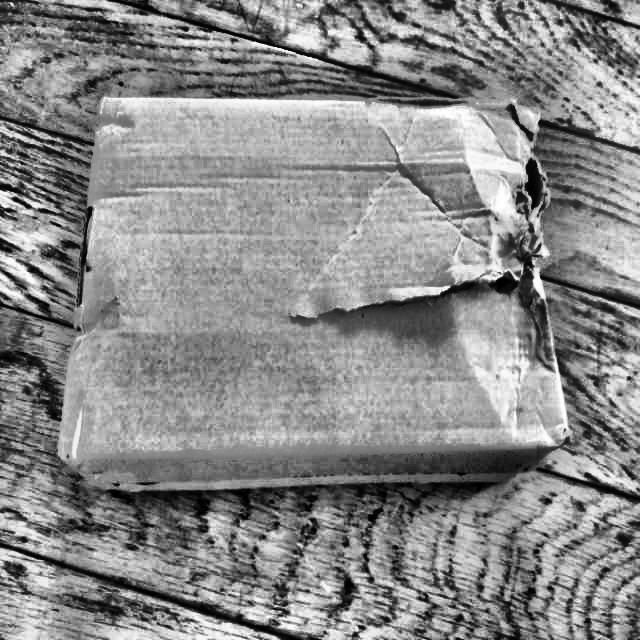box: (36, 84, 592, 505)
hole: (514, 159, 549, 215)
